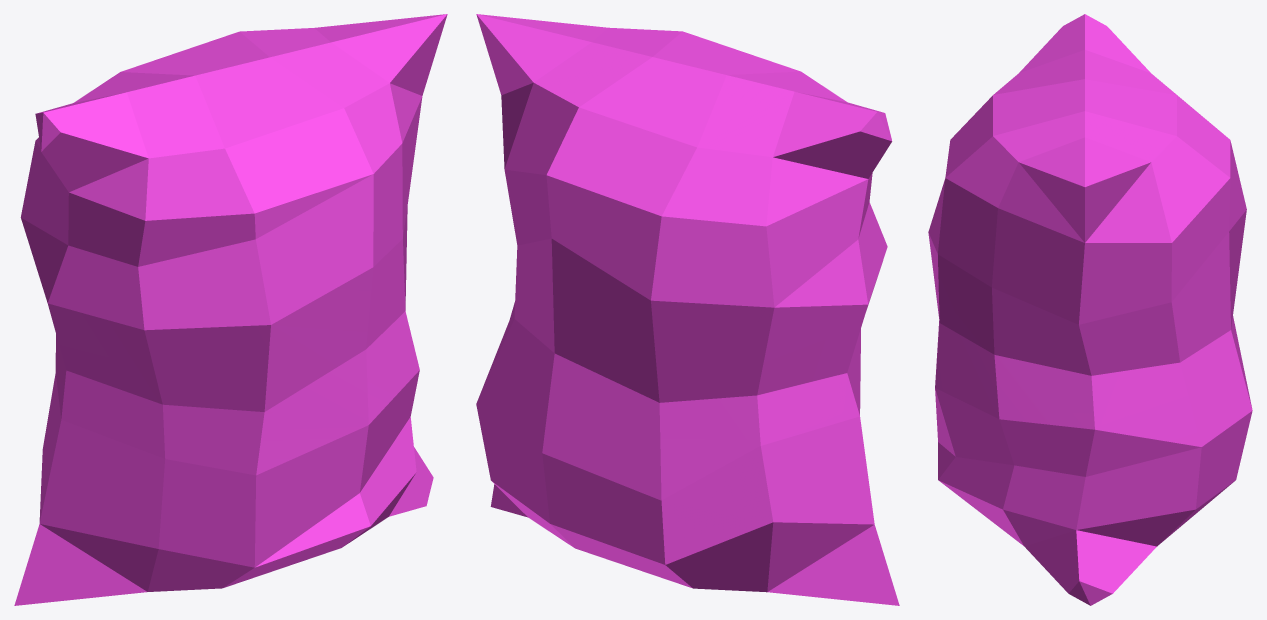
Rendered from SM_Bag_Fantasy.fbx.
3 renders of one model, left to right at view 1: azimuth 30°, elevation 25°; view 2: azimuth 150°, elevation 25°; view 3: azimuth 270°, elevation 25°, orthographic. The views are drawn at different scales.
Visible parts, largest first — view 1: SM_Bag_Fantasy; view 2: SM_Bag_Fantasy; view 3: SM_Bag_Fantasy.
Boxes of the visible parts, x1=… form: SM_Bag_Fantasy: x1=14, y1=14, x2=447, y2=605; SM_Bag_Fantasy: x1=476, y1=14, x2=899, y2=605; SM_Bag_Fantasy: x1=928, y1=14, x2=1252, y2=605.
Bounding box in the file's own units: 0.543 × 0.5904 × 0.4037.
